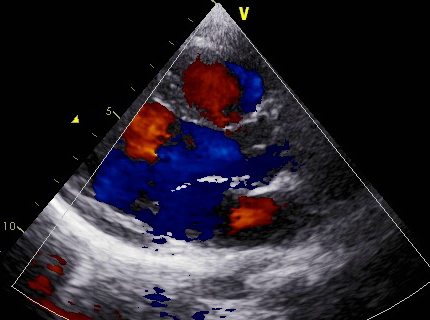MR: (157, 181, 223, 248)
